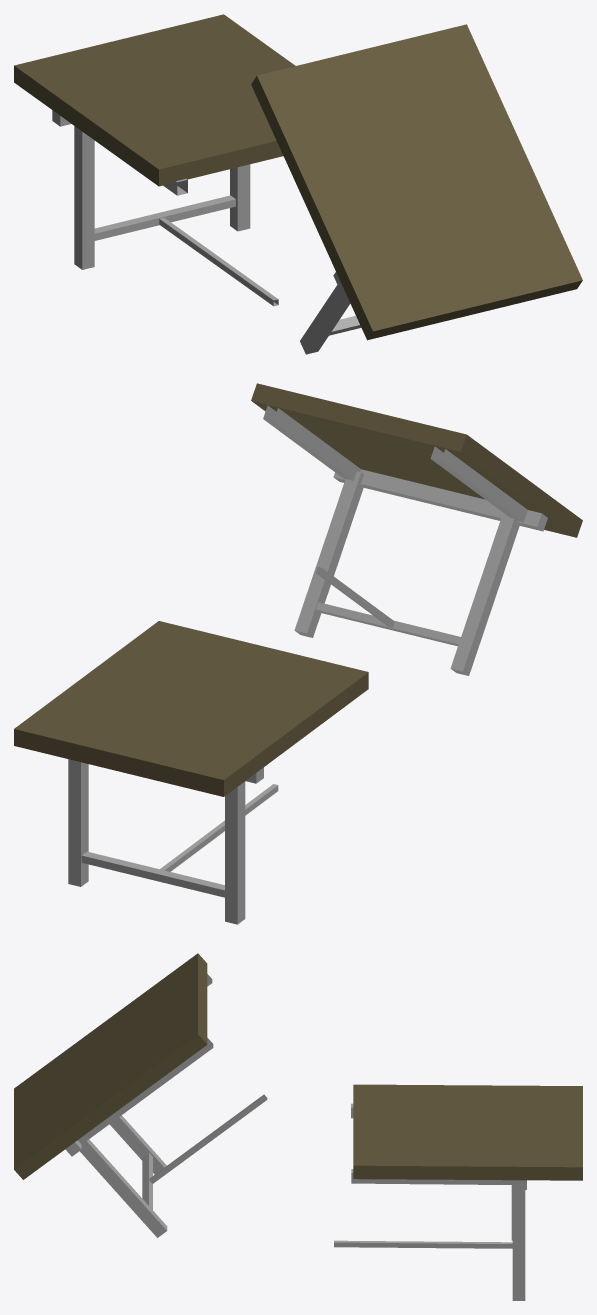
The model's file is Ban1.fbx.
3 renders of one model, top to bottom at view 1: azimuth 30°, elevation 25°; view 2: azimuth 150°, elevation 25°; view 3: azimuth 270°, elevation 25°, orthographic. The views are drawn at different scales.
Parts seen in each view (by area): view 1: pasted__pCube9; view 2: pasted__pCube9; view 3: pasted__pCube9.
Part boxes in pixels (x1,y1,x2,y2): pasted__pCube9: (14,14,582,354); pasted__pCube9: (14,383,582,924); pasted__pCube9: (14,953,582,1300).
Bounding box in the file's own units: 55.34 × 86.96 × 164.
